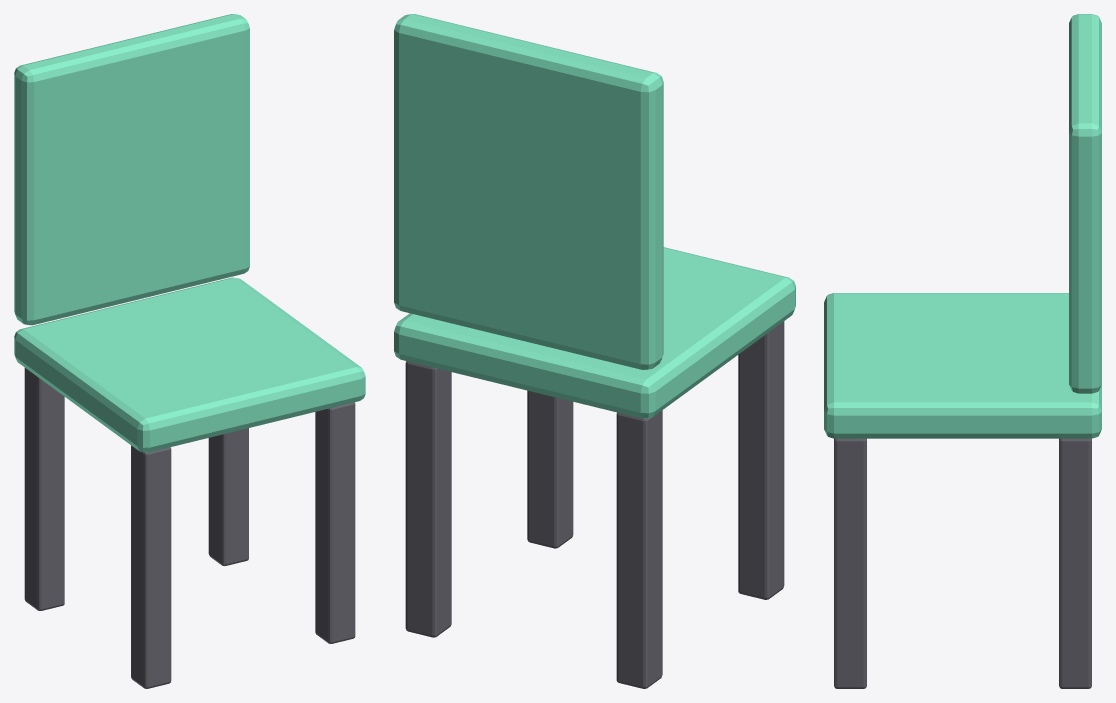
Rendered from chair.glb.
3 renders of one model, left to right at view 1: azimuth 30°, elevation 25°; view 2: azimuth 150°, elevation 25°; view 3: azimuth 270°, elevation 25°, orthographic. The views are drawn at different scales.
Parts seen in each view (by area): view 1: chair.glb; view 2: chair.glb; view 3: chair.glb.
Boxes of the visible parts, x1,y1,x2,y2 form: chair.glb: (14, 14, 365, 688); chair.glb: (394, 14, 795, 688); chair.glb: (824, 14, 1101, 688).
Bounding box in the file's own units: 0.42 × 0.945 × 0.42.
